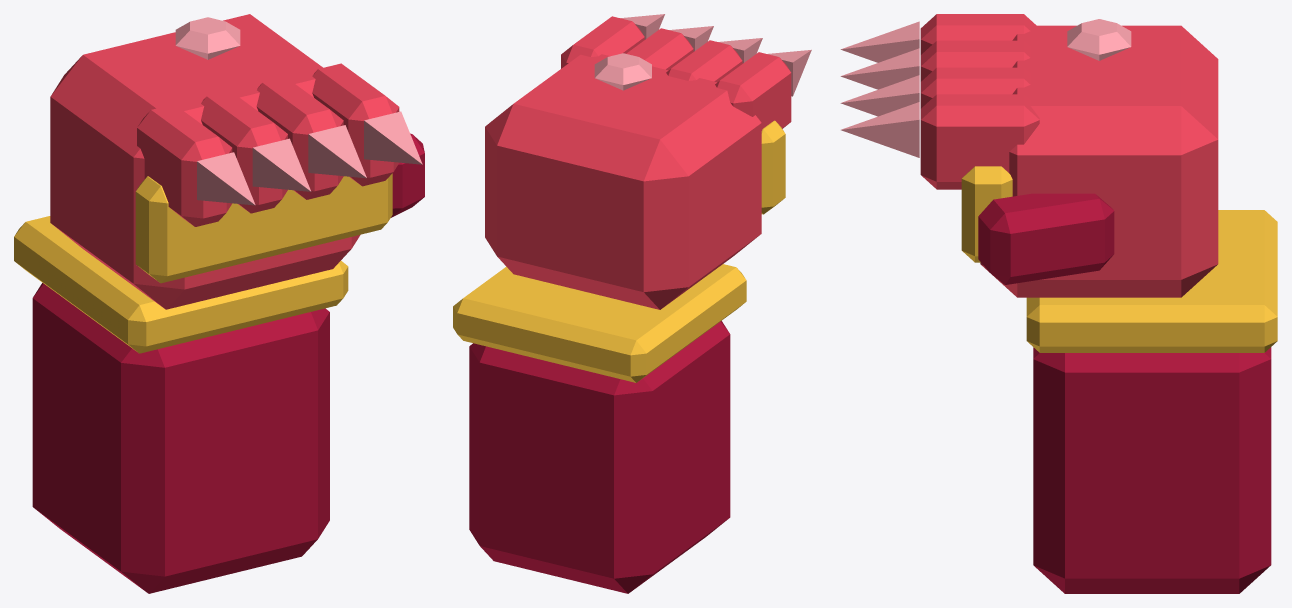
The model's file is RubyGauntlet.fbx.
3 views of the same model, side by side, from view 1: azimuth 30°, elevation 25°; view 2: azimuth 150°, elevation 25°; view 3: azimuth 270°, elevation 25° (orthographic). The views are drawn at different scales.
Visible parts, largest first — view 1: RubyGauntlet; view 2: RubyGauntlet; view 3: RubyGauntlet.
Part boxes in pixels (x1=…): RubyGauntlet: x1=14, y1=14, x2=424, y2=593; RubyGauntlet: x1=453, y1=14, x2=811, y2=593; RubyGauntlet: x1=840, y1=14, x2=1277, y2=593.
Size of the model in its own units: 1.26 by 2.21 by 1.65.
1 material, 1 textured.
